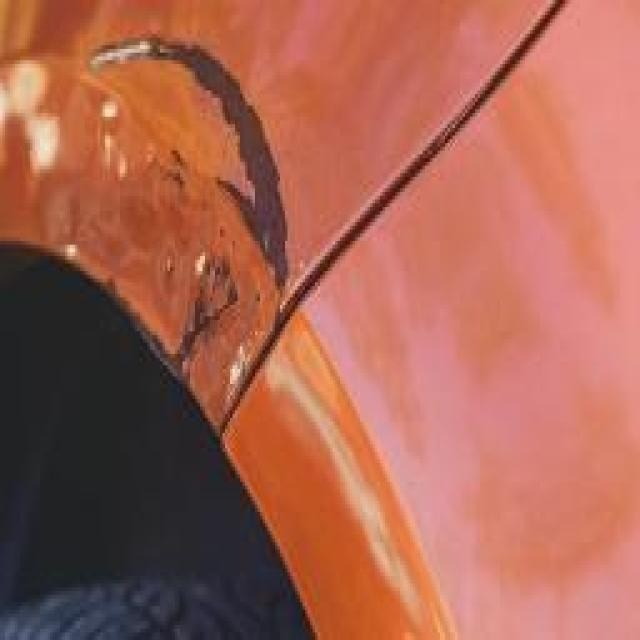Fender: (0, 0, 461, 444)
